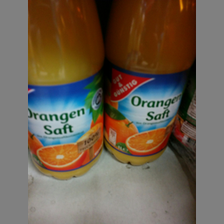juice: (106, 3, 194, 166), (29, 1, 106, 179)
